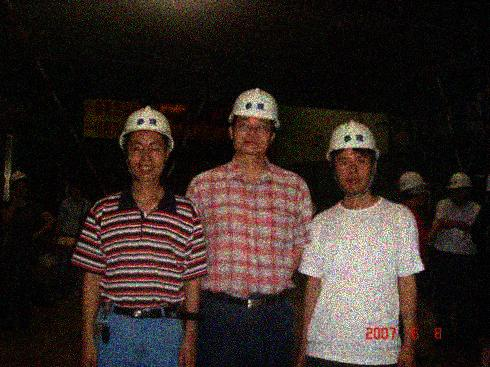helmet: (115, 105, 178, 182), (325, 120, 380, 193), (225, 87, 284, 155), (398, 170, 430, 210), (444, 171, 474, 204), (7, 171, 30, 198)
